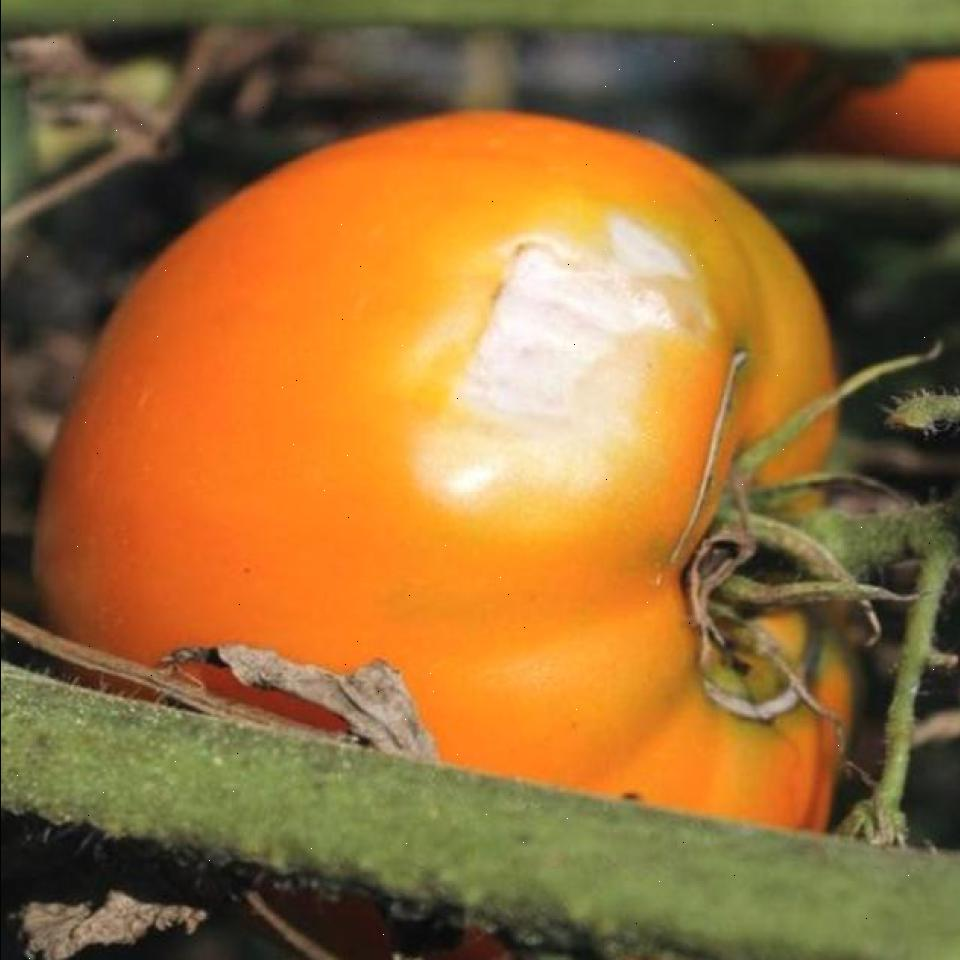Sunscald: (393, 185, 725, 535)
